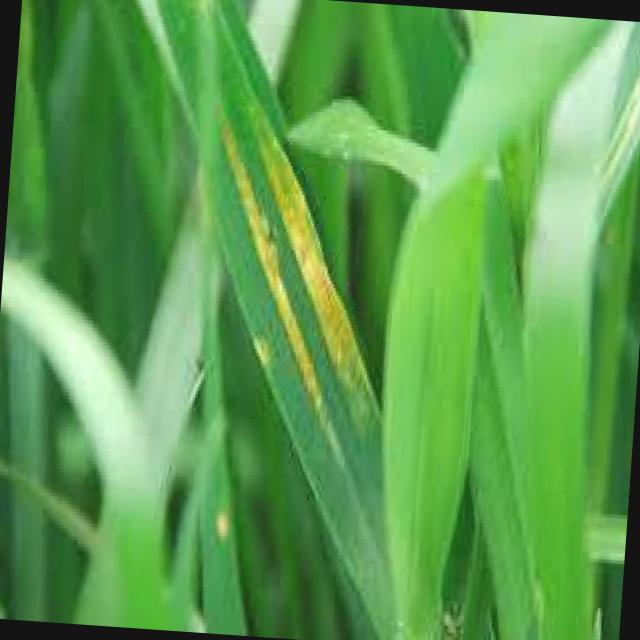leaf_blight: (137, 0, 393, 635)
